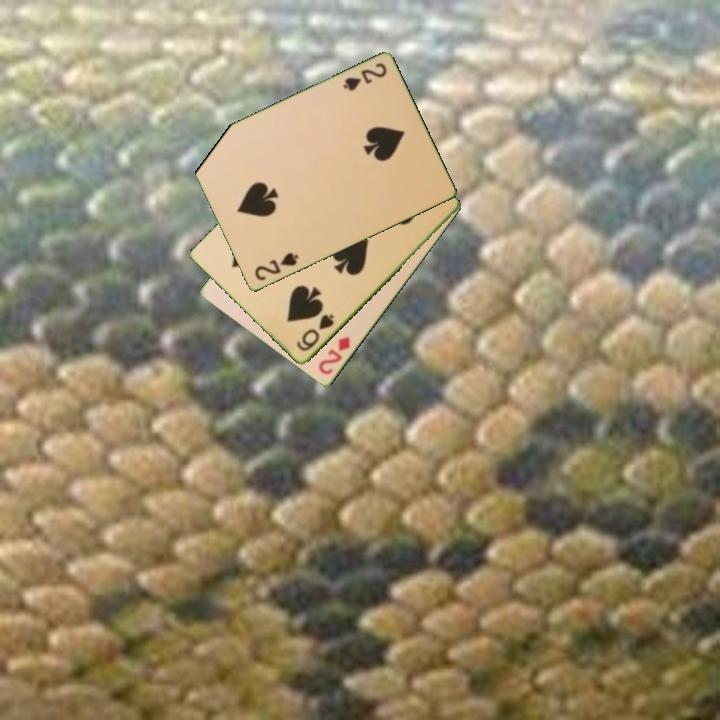2d: (315, 333, 353, 378)
2s: (251, 249, 302, 284), (339, 60, 389, 94)
6s: (293, 311, 337, 354)
